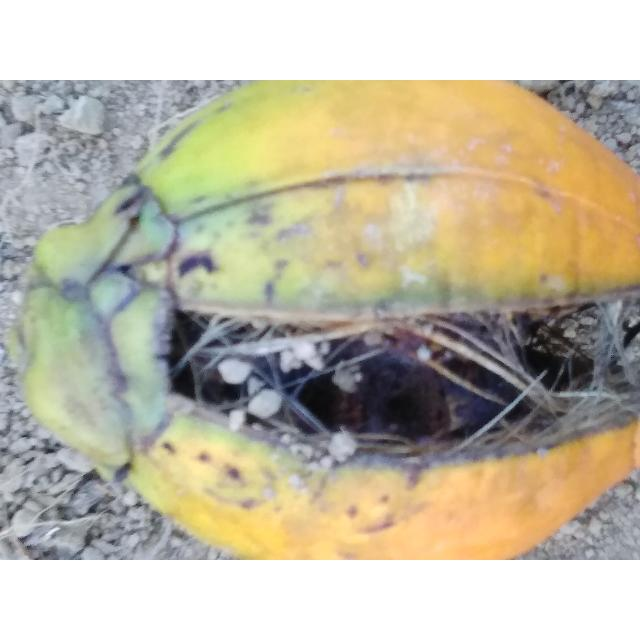damaged: (7, 80, 640, 560)
